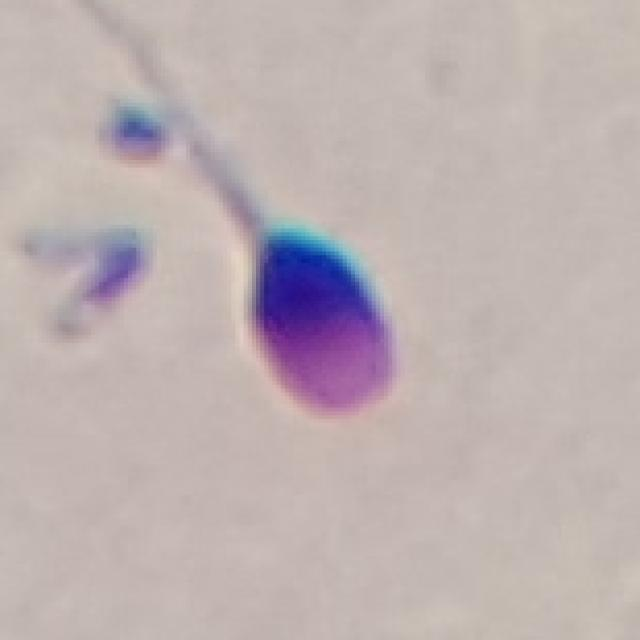normal sperm: (206, 158, 395, 418)
